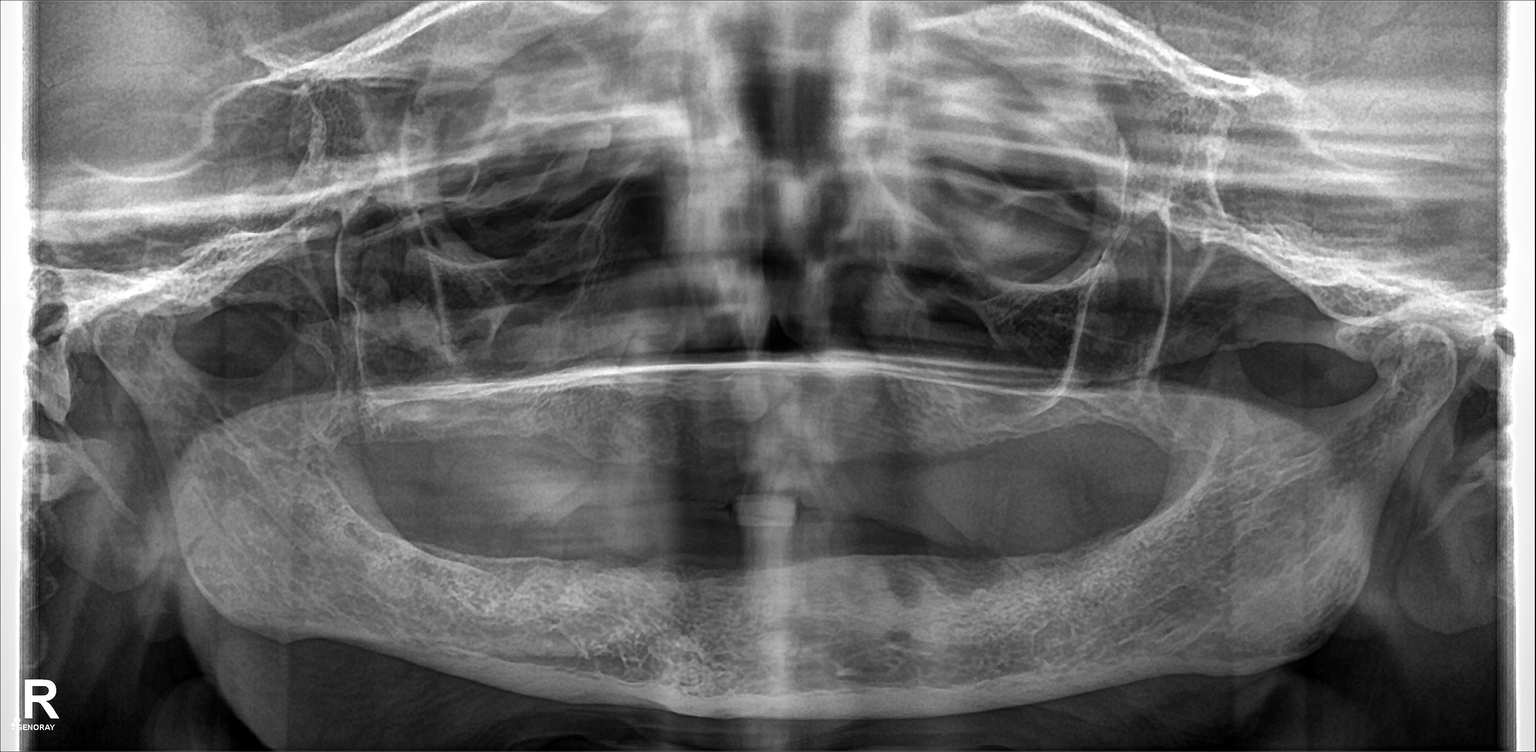Missing Tooth: (551, 354, 600, 459), (998, 523, 1046, 620), (389, 359, 439, 444), (749, 352, 794, 438), (976, 342, 1015, 438), (860, 346, 904, 429), (812, 344, 854, 429), (574, 504, 617, 585), (624, 357, 664, 439), (499, 363, 535, 454), (689, 356, 729, 436), (449, 359, 484, 447), (732, 521, 770, 602), (689, 516, 720, 608), (527, 508, 565, 581), (1138, 363, 1175, 435), (924, 352, 959, 428), (419, 501, 450, 584), (1091, 357, 1125, 432), (374, 484, 414, 541), (784, 521, 815, 594), (1021, 342, 1047, 428), (918, 521, 948, 594), (1056, 514, 1088, 579), (821, 529, 855, 587), (1110, 504, 1141, 562), (967, 532, 991, 606), (626, 512, 651, 581), (875, 523, 898, 596), (661, 514, 681, 594), (492, 510, 515, 578), (1063, 352, 1086, 419), (456, 516, 483, 562)
